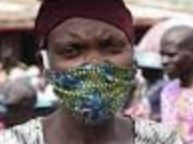with_facemask: (51, 60, 145, 133)
